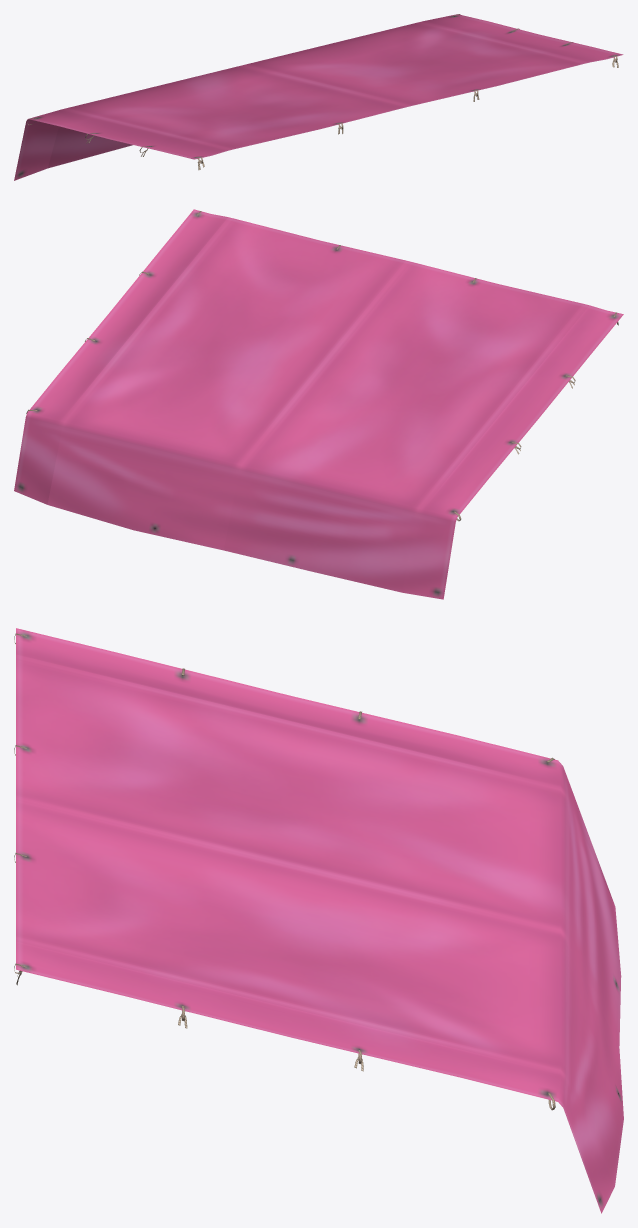
Rendered from jsf_Ceiling_s03_c06_t02.fbx.
3 renders of one model, top to bottom at view 1: azimuth 30°, elevation 25°; view 2: azimuth 150°, elevation 25°; view 3: azimuth 270°, elevation 25°, orthographic. The views are drawn at different scales.
Visible parts, largest first — view 1: jsf_Ceiling_s03_c06_t02; view 2: jsf_Ceiling_s03_c06_t02; view 3: jsf_Ceiling_s03_c06_t02.
Part boxes in pixels (<box>): jsf_Ceiling_s03_c06_t02: <box>14,14,623,180</box>; jsf_Ceiling_s03_c06_t02: <box>14,209,623,599</box>; jsf_Ceiling_s03_c06_t02: <box>14,628,623,1213</box>.
Bounding box in the file's own units: 315 × 106 × 234.
